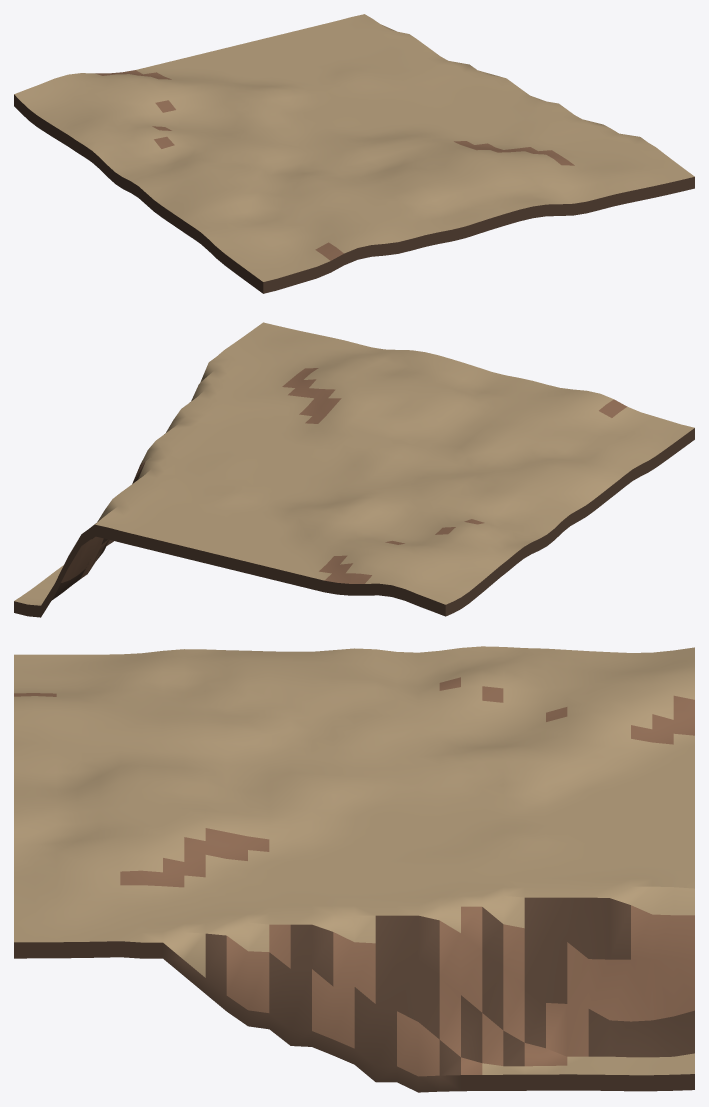
The model's file is Terrain_05_07.fbx.
3 renders of one model, top to bottom at view 1: azimuth 30°, elevation 25°; view 2: azimuth 150°, elevation 25°; view 3: azimuth 270°, elevation 25°, orthographic. The views are drawn at different scales.
Parts seen in each view (by area): view 1: Terrain_05_07_LOD0; view 2: Terrain_05_07_LOD0; view 3: Terrain_05_07_LOD0.
Boxes of the visible parts, bbox=[...] form: Terrain_05_07_LOD0: bbox=[14, 14, 694, 293]; Terrain_05_07_LOD0: bbox=[14, 322, 694, 617]; Terrain_05_07_LOD0: bbox=[14, 646, 694, 1092].
Size of what is drawn, in the model's own units: 384 by 104 by 384.
